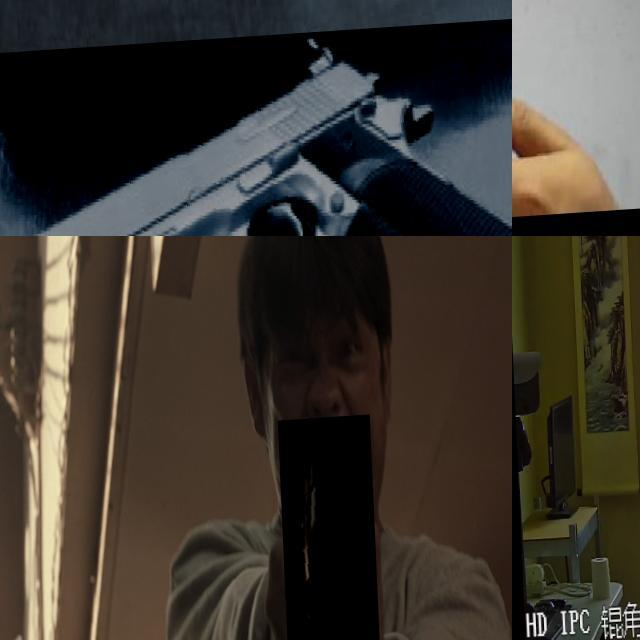-: (512, 0, 604, 231)
gun-knife-thesis - v11 Yolov5 augmented: (0, 26, 512, 236), (275, 420, 376, 640)
